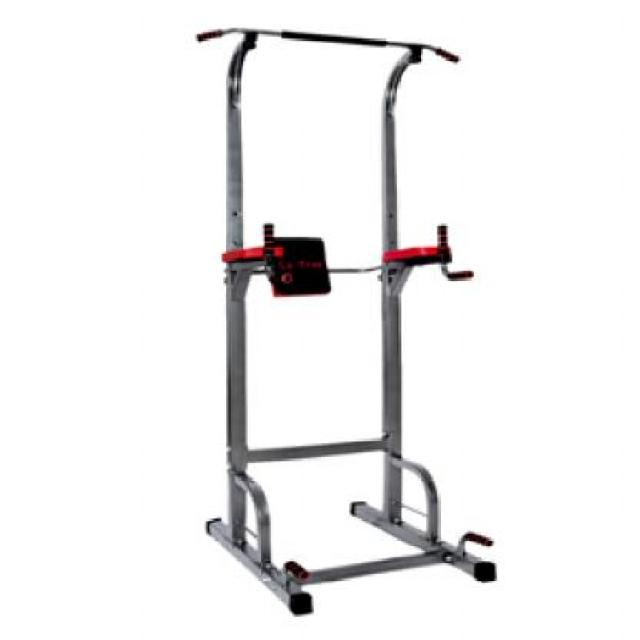chinning dipping: (195, 24, 500, 616)
